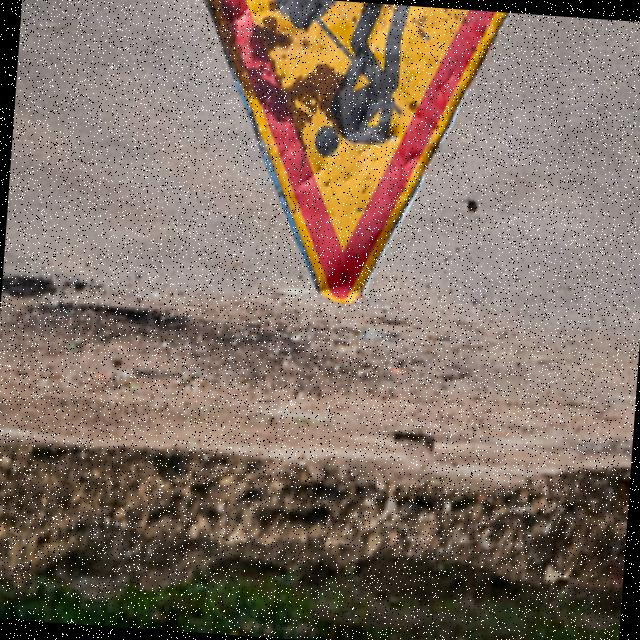road_work: (163, 0, 529, 326)
